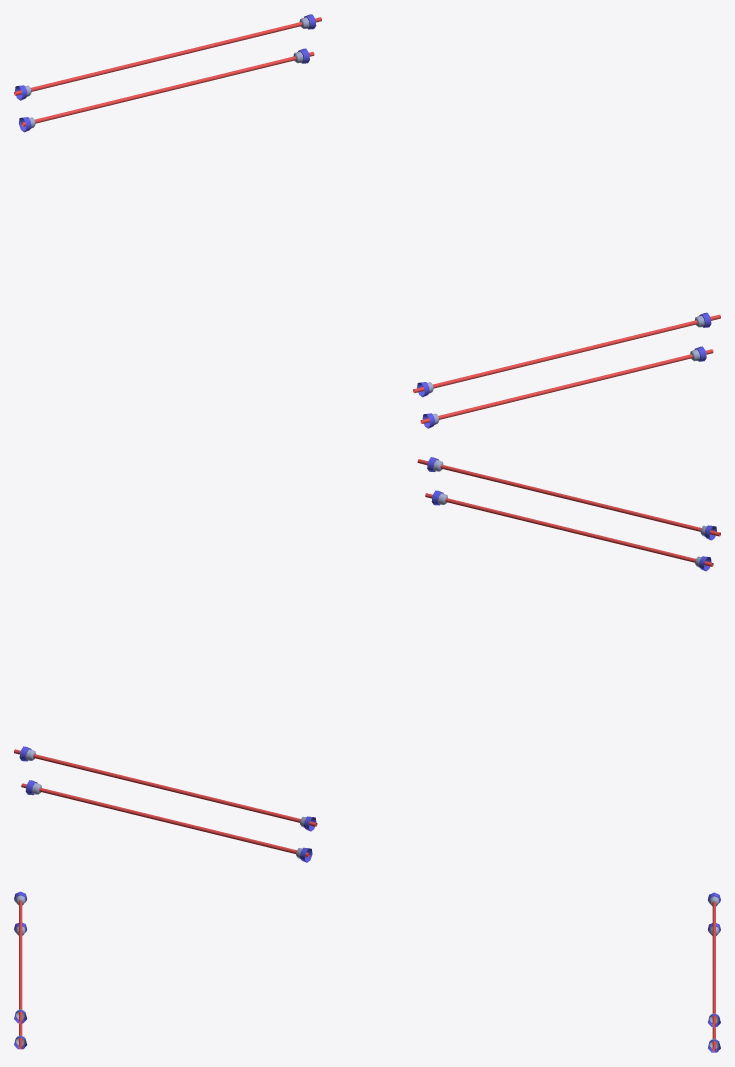
Rendered from Level16_Lasers.fbx.
3 renders of one model, top to bottom at view 1: azimuth 30°, elevation 25°; view 2: azimuth 150°, elevation 25°; view 3: azimuth 270°, elevation 25°, orthographic. The views are drawn at different scales.
Parts seen in each view (by area): view 1: Laser (×4); view 2: Laser (×4); view 3: Laser (×2).
Part boxes in pixels (box(x1,y1,x2,y2)): Laser (×4): box(14, 17, 720, 423); Laser (×4): box(14, 459, 720, 857); Laser (×2): box(19, 900, 715, 1026).
Bounding box in the file's own units: 87.08 × 12.39 × 200.
